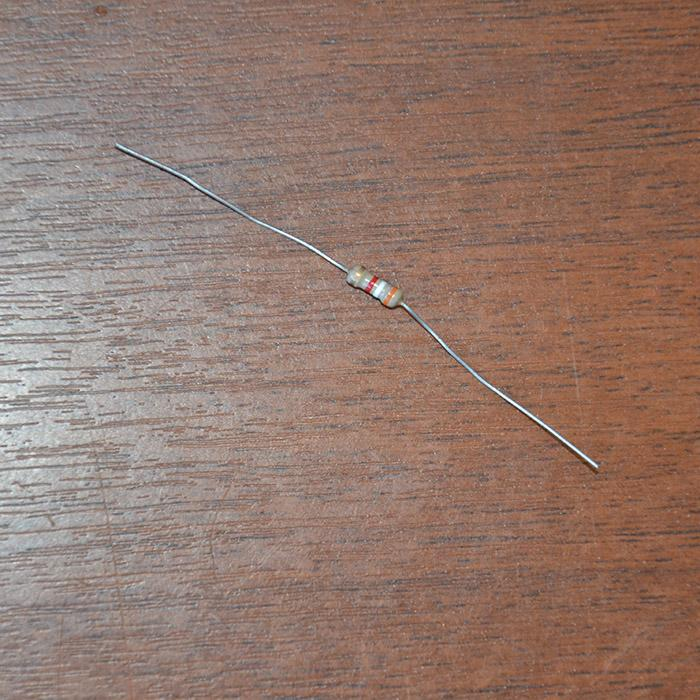resistor: (345, 263, 404, 310)
